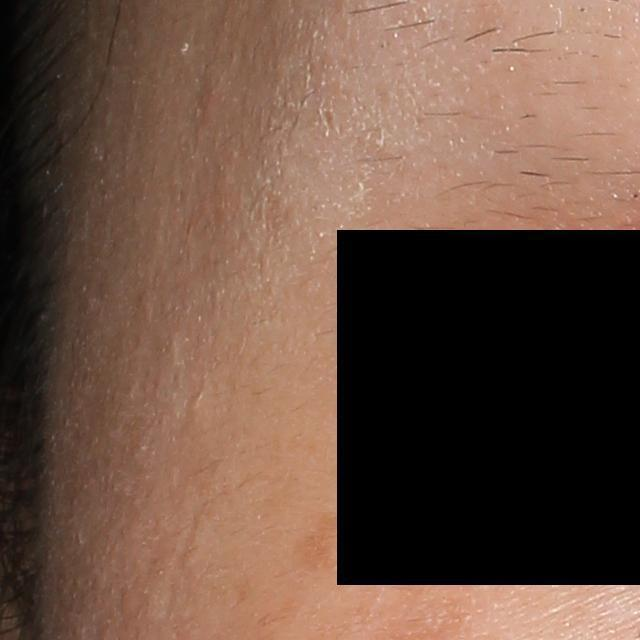melasma: (298, 515, 353, 580)
